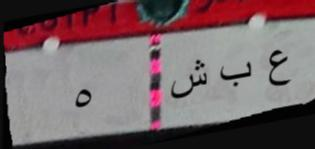5: (71, 81, 95, 113)
ain: (264, 46, 291, 92)
baa: (218, 57, 253, 91)
sheen: (170, 58, 209, 106)
